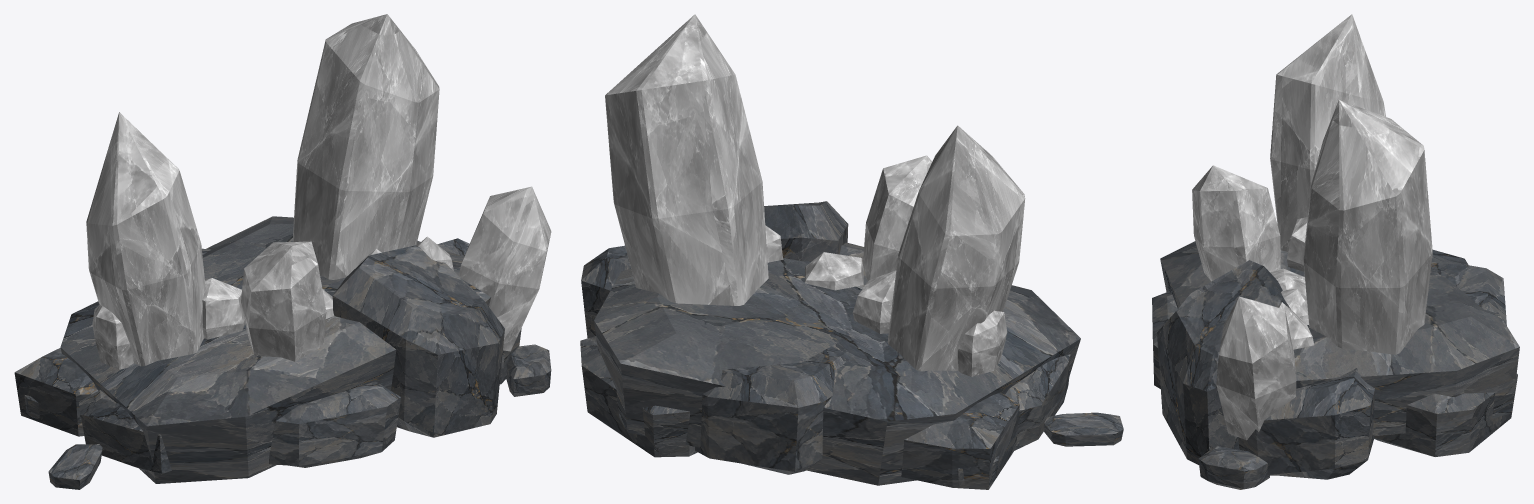
File: Ore_B1.fbx
3 renders of one model, left to right at view 1: azimuth 30°, elevation 25°; view 2: azimuth 150°, elevation 25°; view 3: azimuth 270°, elevation 25°, orthographic. The views are drawn at different scales.
Parts seen in each view (by area): view 1: Ore_B1_LOD0; view 2: Ore_B1_LOD0; view 3: Ore_B1_LOD0.
Boxes of the visible parts, x1,y1,x2,y2 form: Ore_B1_LOD0: [14, 14, 551, 489]; Ore_B1_LOD0: [580, 14, 1123, 489]; Ore_B1_LOD0: [1152, 14, 1519, 489].
Size of what is drawn, in the model's own units: 1.5 by 1.05 by 0.9998.
Materials: 2 (2 with a texture image).
